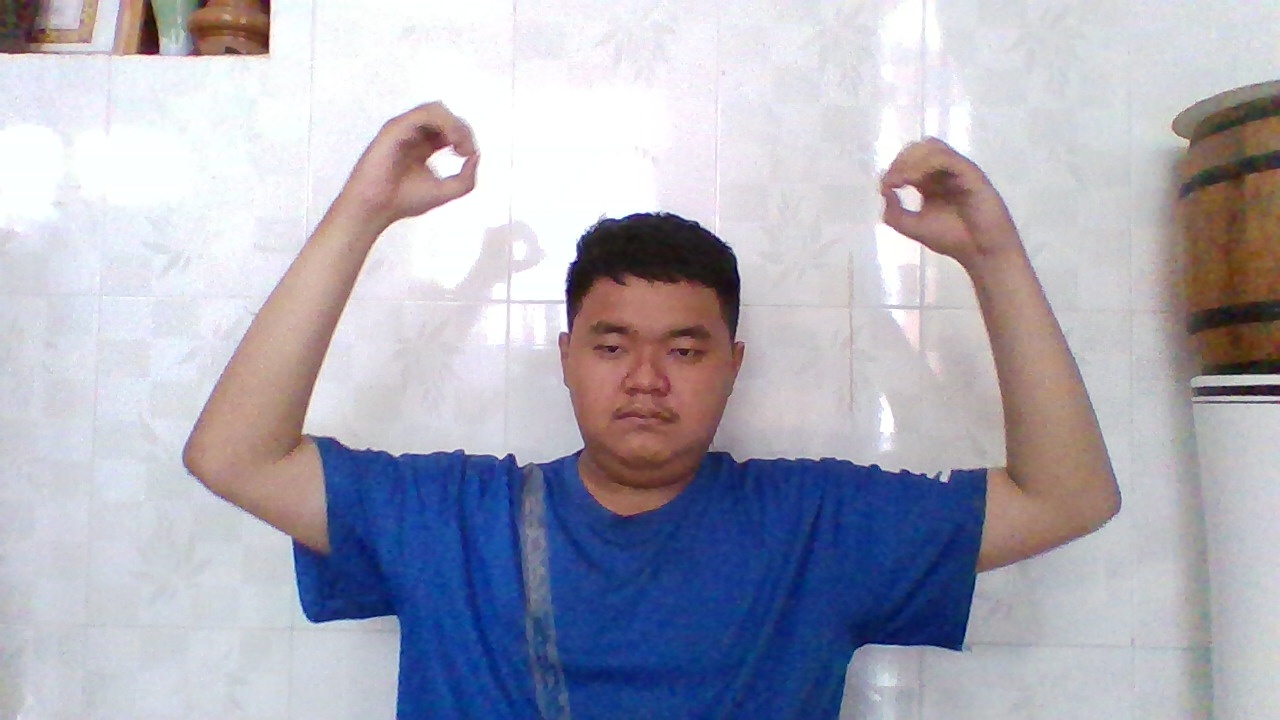O: (870, 130, 996, 267), (362, 92, 488, 224)
